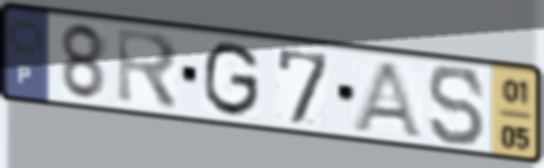7: (273, 46, 332, 126)
8: (58, 21, 111, 103)
A: (348, 60, 428, 142)
G: (200, 39, 263, 120)
R: (114, 25, 182, 114)
S: (426, 63, 488, 149)
